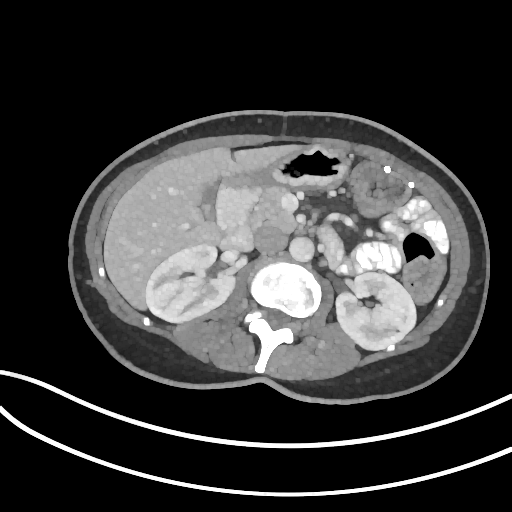Lesion: (389, 325, 404, 338)
